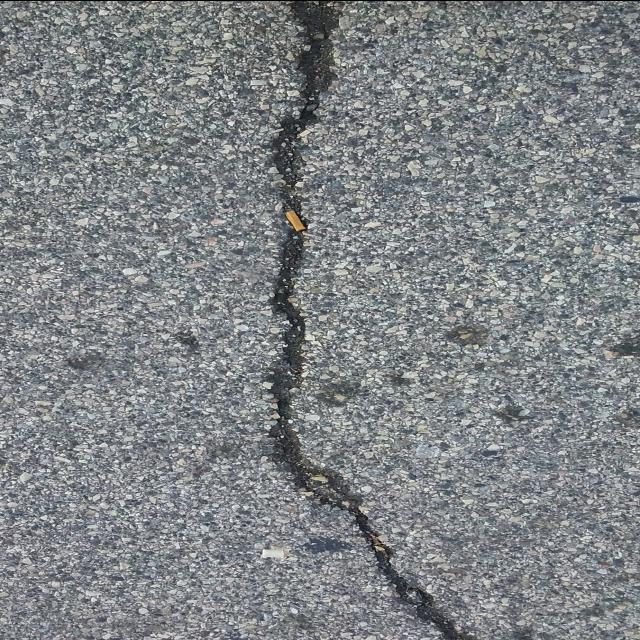Crack: (267, 0, 476, 640)
